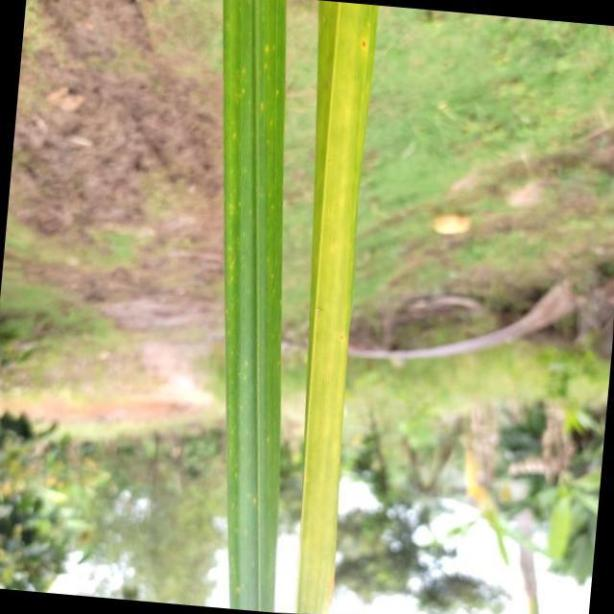nitrogen: (298, 0, 378, 614), (219, 0, 286, 614)
